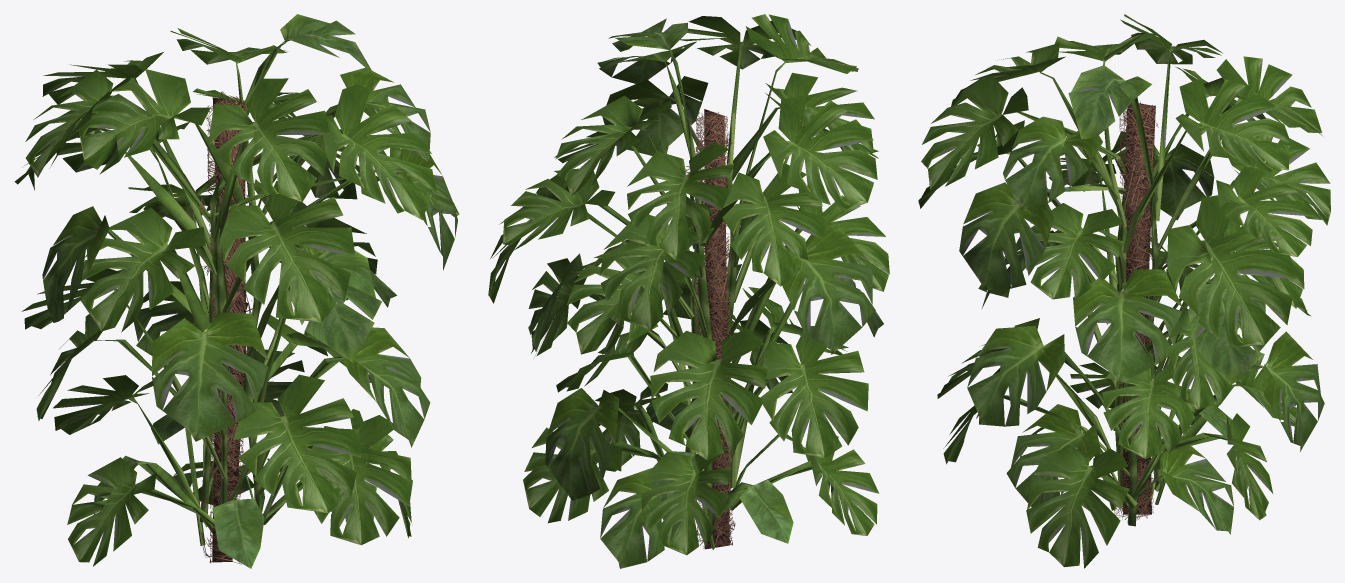
Rendered from plant 3.gltf.
3 views of the same model, side by side, from view 1: azimuth 30°, elevation 25°; view 2: azimuth 150°, elevation 25°; view 3: azimuth 270°, elevation 25° (orthographic). The views are drawn at different scales.
Visible parts, largest first — view 1: Leaves; view 2: Leaves; view 3: Leaves.
Part boxes in pixels (<box>): Leaves: <box>14,14,459,568</box>; Leaves: <box>488,14,889,568</box>; Leaves: <box>918,14,1330,568</box>.
Size of the model in its own units: 0.7999 by 1.07 by 0.8547.
Materials: 3 (3 with a texture image).
